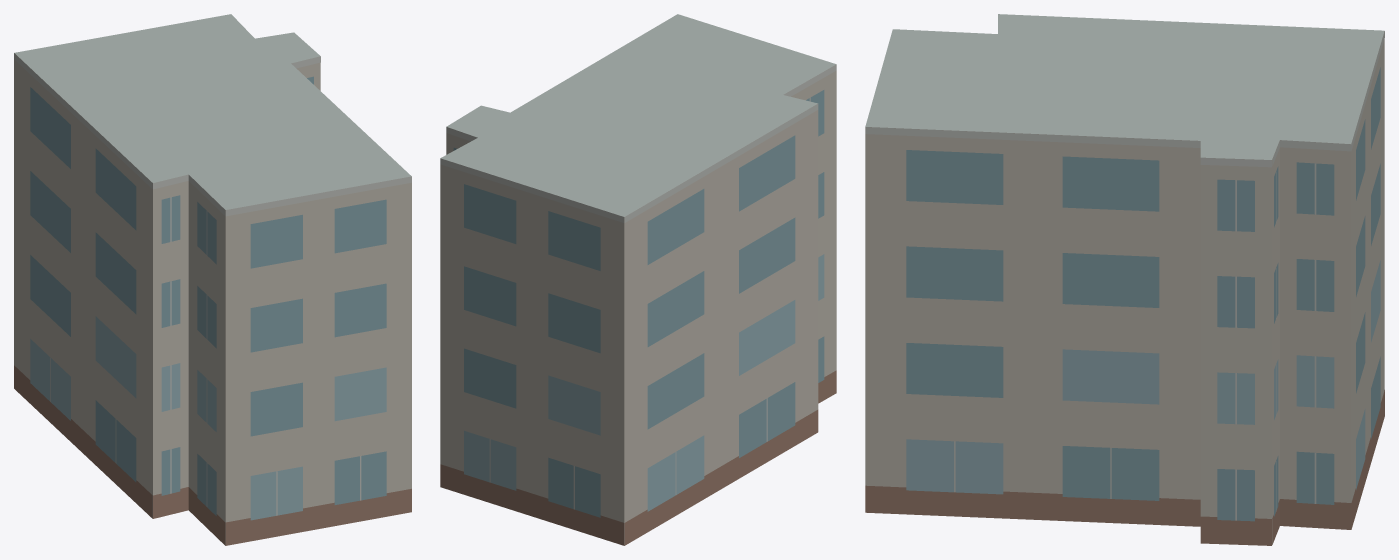
The model's file is survey-upis-32946828.glb.
The picture shows the model from 3 angles, left to right: view 1: azimuth 30°, elevation 25°; view 2: azimuth 150°, elevation 25°; view 3: azimuth 270°, elevation 25°; orthographic projection. The views are drawn at different scales.
Parts seen in each view (by area): view 1: survey-upis-32946828.tmp; view 2: survey-upis-32946828.tmp; view 3: survey-upis-32946828.tmp.
Boxes of the visible parts, <box> form: survey-upis-32946828.tmp: <box>14,14,411,545</box>; survey-upis-32946828.tmp: <box>440,14,836,545</box>; survey-upis-32946828.tmp: <box>865,14,1384,545</box>.
Size of the model in its own units: 10.56 by 13 by 15.87.
